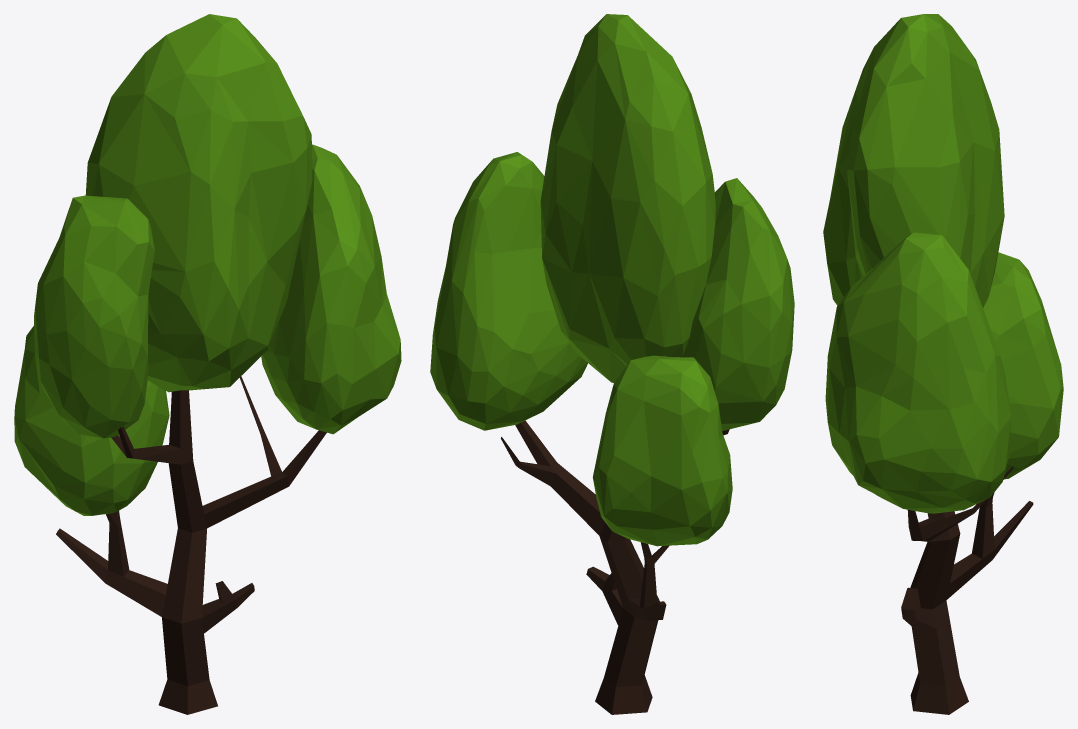
Rendered from fork_tree3.obj.
3 renders of one model, left to right at view 1: azimuth 30°, elevation 25°; view 2: azimuth 150°, elevation 25°; view 3: azimuth 270°, elevation 25°, orthographic. The views are drawn at different scales.
Parts seen in each view (by area): view 1: Tree1_Cylinder.020; view 2: Tree1_Cylinder.020; view 3: Tree1_Cylinder.020.
Part boxes in pixels (left/top/right/bottom): Tree1_Cylinder.020: left=14, top=14, right=401, bottom=714; Tree1_Cylinder.020: left=430, top=14, right=794, bottom=714; Tree1_Cylinder.020: left=823, top=14, right=1063, bottom=714.
Size of the model in its own units: 10.48 by 20.22 by 6.34.
